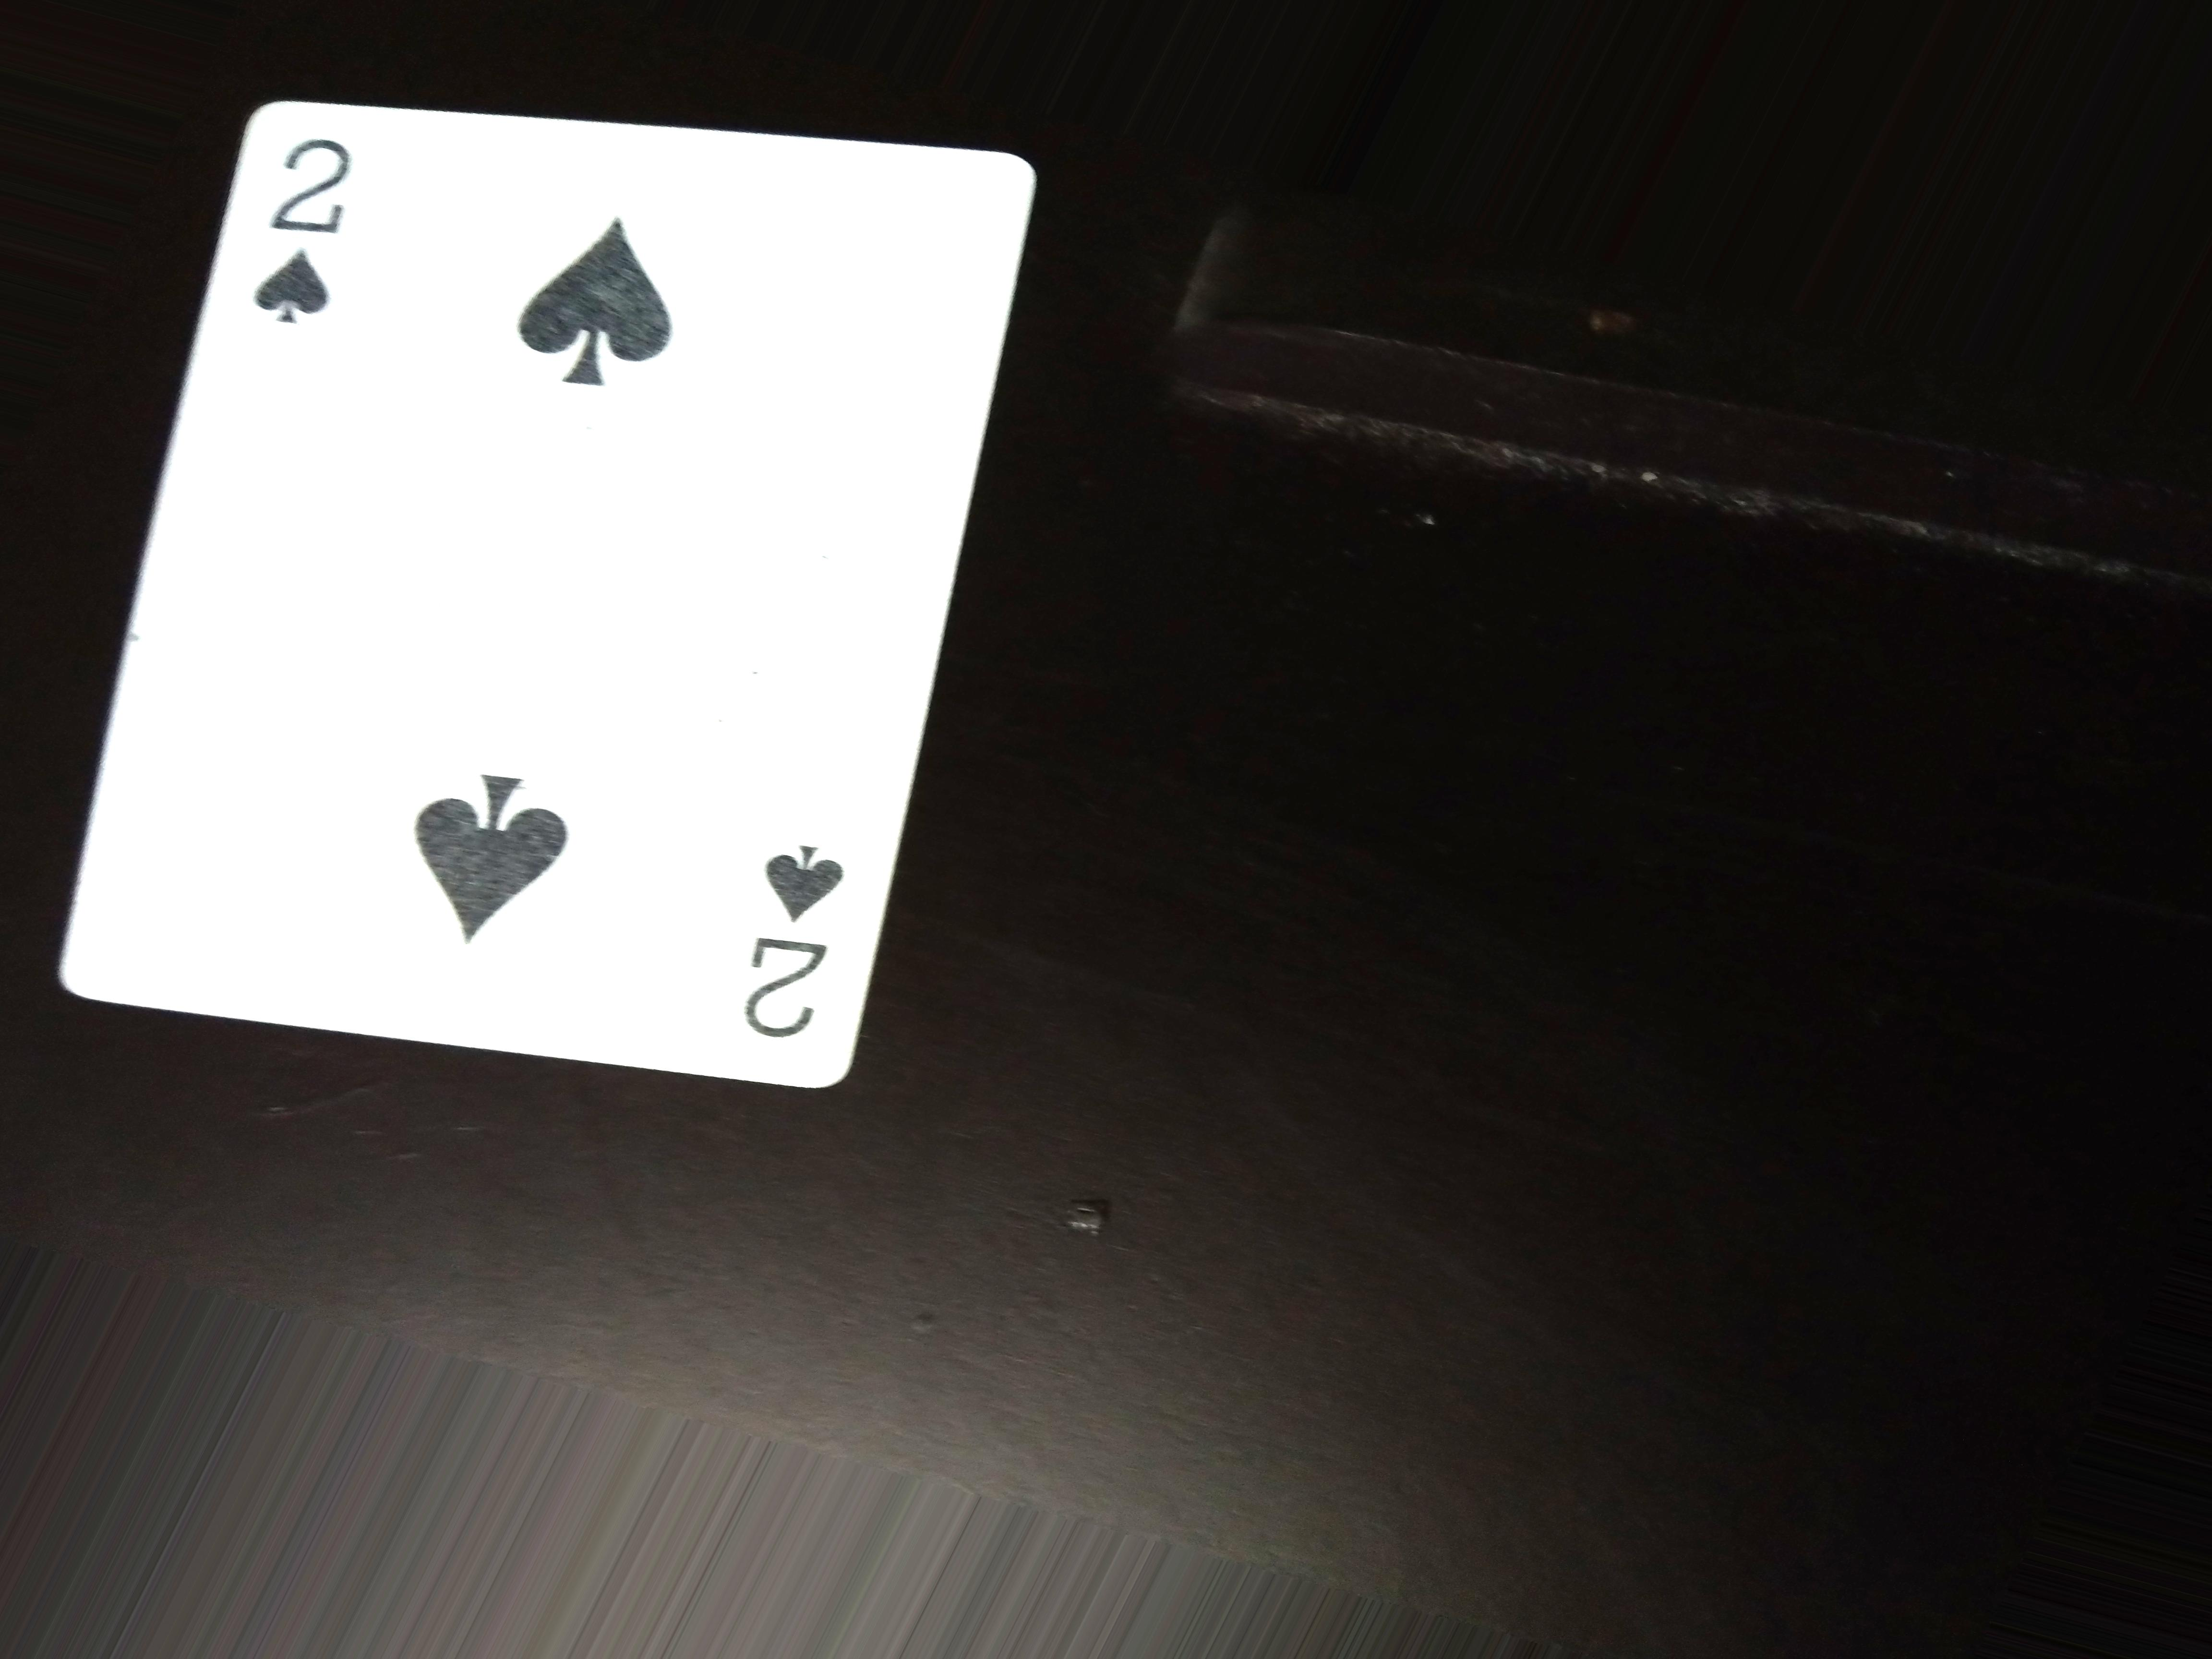2S: (723, 821, 860, 1058)
